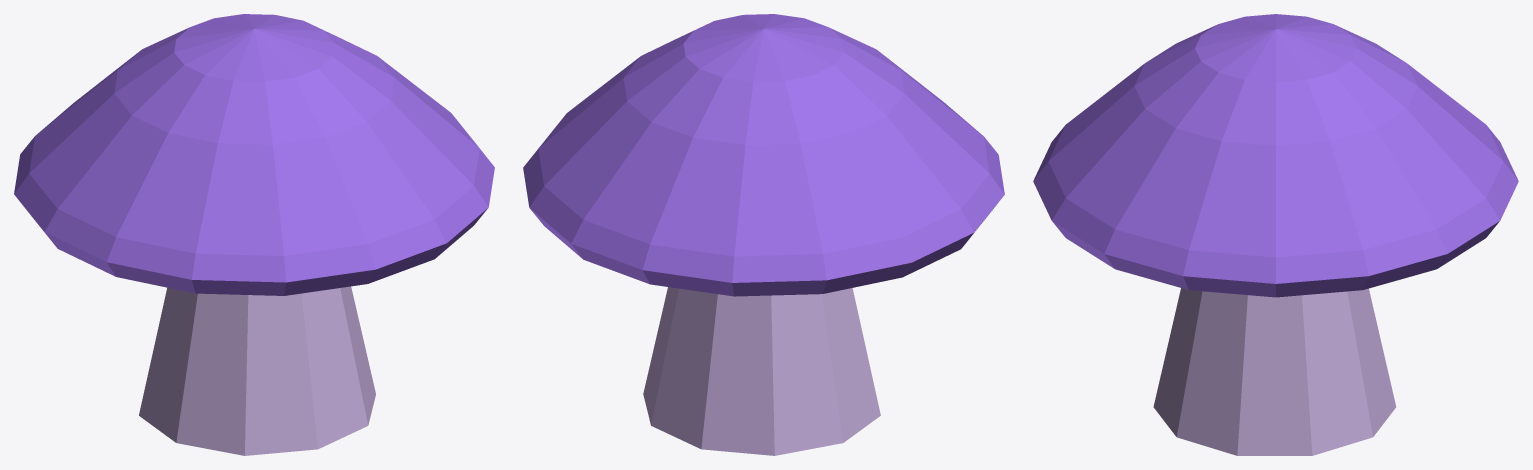
The model's file is Pilz.fbx.
3 renders of one model, left to right at view 1: azimuth 30°, elevation 25°; view 2: azimuth 150°, elevation 25°; view 3: azimuth 270°, elevation 25°, orthographic.
Parts seen in each view (by area): view 1: Pilz_3_Top, Pilz_3_Bot; view 2: Pilz_3_Top, Pilz_3_Bot; view 3: Pilz_3_Top, Pilz_3_Bot.
Part boxes in pixels (x1,y1,x2,y2): Pilz_3_Top: [14, 14, 494, 295]; Pilz_3_Bot: [139, 286, 375, 455]; Pilz_3_Top: [523, 14, 1004, 296]; Pilz_3_Bot: [643, 287, 880, 455]; Pilz_3_Top: [1033, 14, 1518, 297]; Pilz_3_Bot: [1153, 288, 1396, 455].
Bounding box in the file's own units: 26.4 × 22.6 × 26.4.
